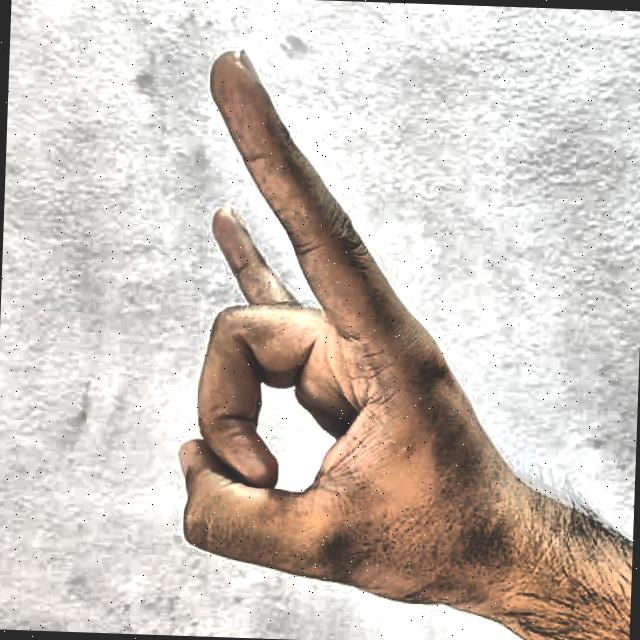Cha: (98, 19, 539, 640)
